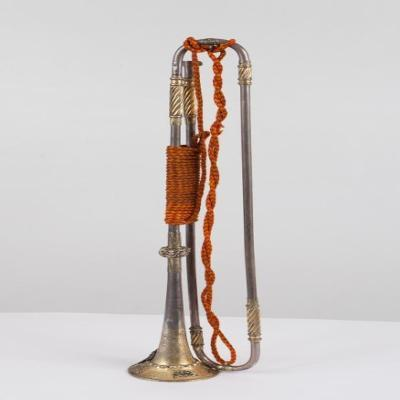other: (127, 36, 261, 384)
